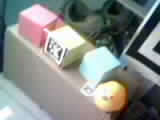duck: (86, 69, 126, 114)
